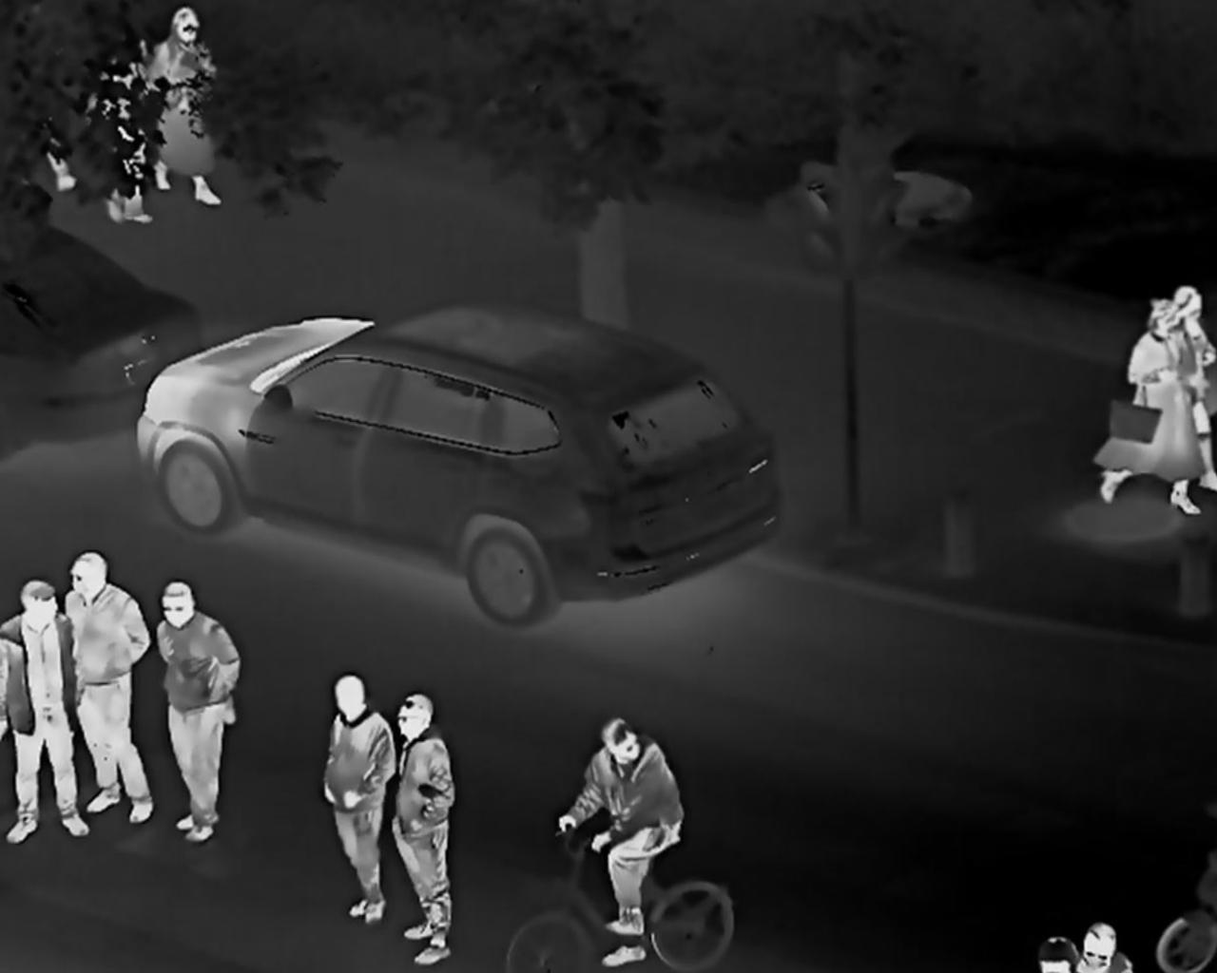person: (68, 545, 165, 850), (152, 577, 236, 875), (310, 665, 392, 914), (3, 562, 74, 846), (402, 690, 461, 951), (1124, 258, 1176, 508), (158, 10, 226, 187), (576, 709, 643, 856), (1172, 277, 1217, 451), (1041, 931, 1093, 973), (1100, 899, 1126, 967)
